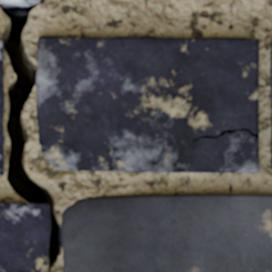brick: (37, 37, 258, 172), (62, 194, 271, 271), (0, 203, 49, 271), (0, 41, 3, 174), (0, 0, 42, 3), (270, 62, 271, 92)
crack: (0, 2, 62, 269), (192, 127, 259, 141)
